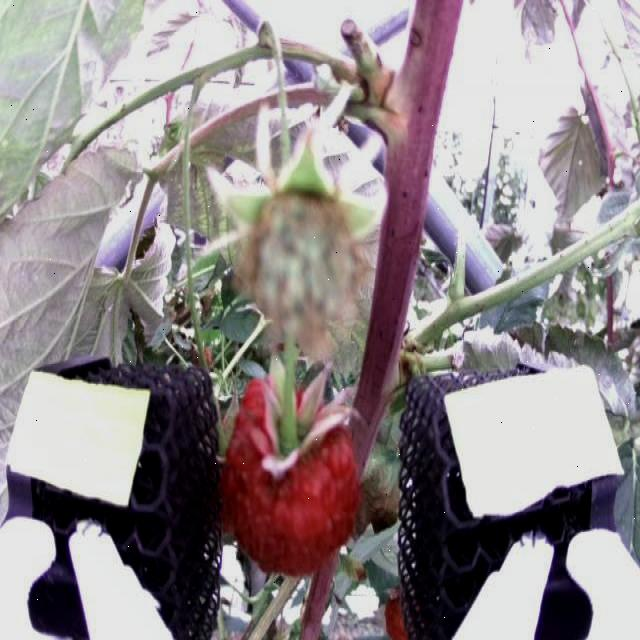Riped berries: (220, 366, 364, 578)
